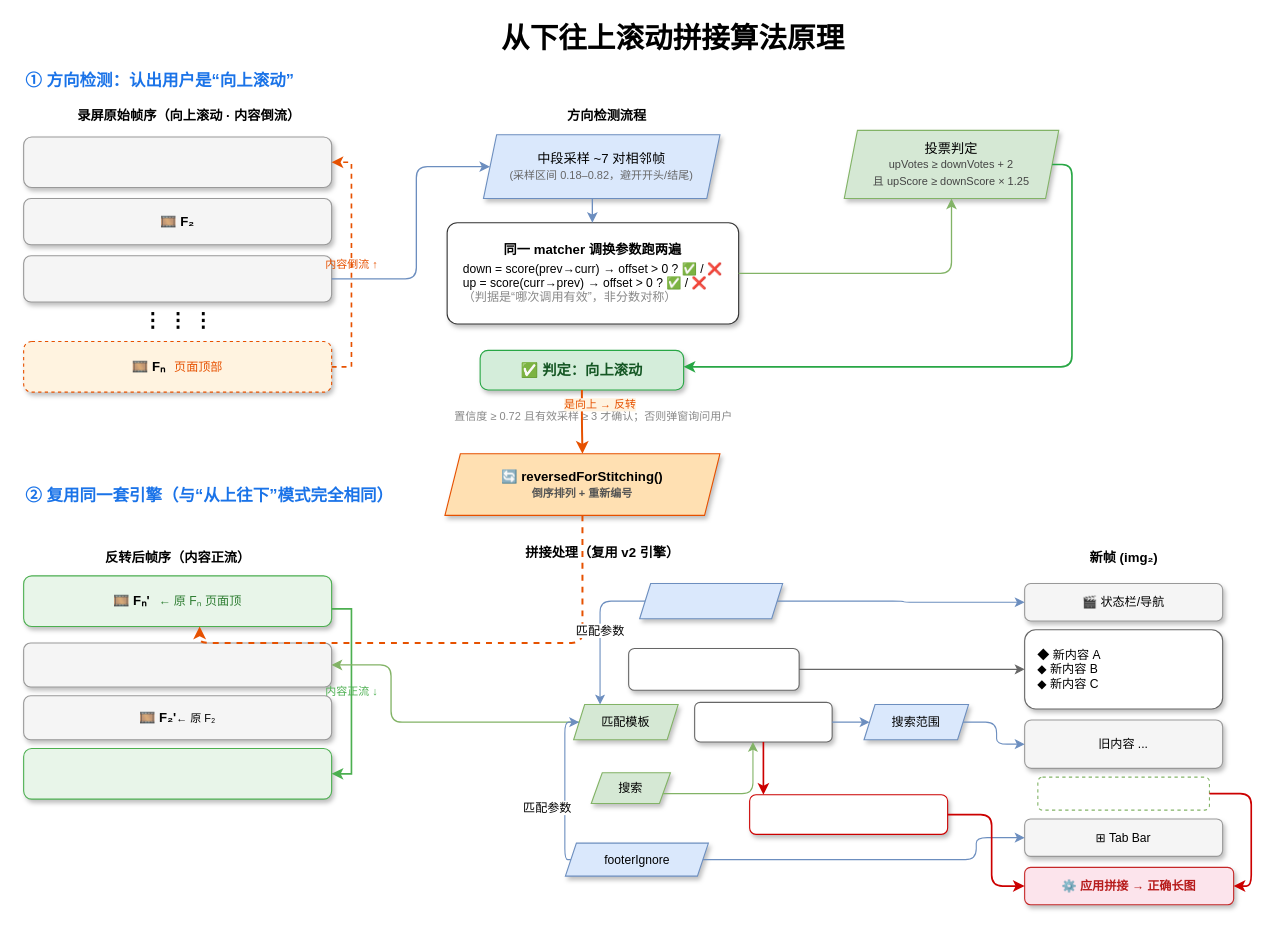
The diagram is 1280 pixels wide and 932 high, and some of its shapes have lost their labels. Here are the shapes that lost their labels. From the top down, the centre of each, then its label:
At point 178,163: "🎞️ F₁ 页面底部".
At point 178,280: "🎞️ F₃".
At point 711,602: "headerIgnore".
At point 178,666: "🎞️ F₃' ← 原 F₃".
At point 714,670: "等距抽帧 + 清晰度精修".
At point 764,723: "🔍 搜索 & 注册".
At point 178,775: "🎞️ F₁' ← 原 F₁ 页面底".
At point 1123,793: "在这里！✅".
At point 849,815: "🔍 注册偏移量 (offset)".
